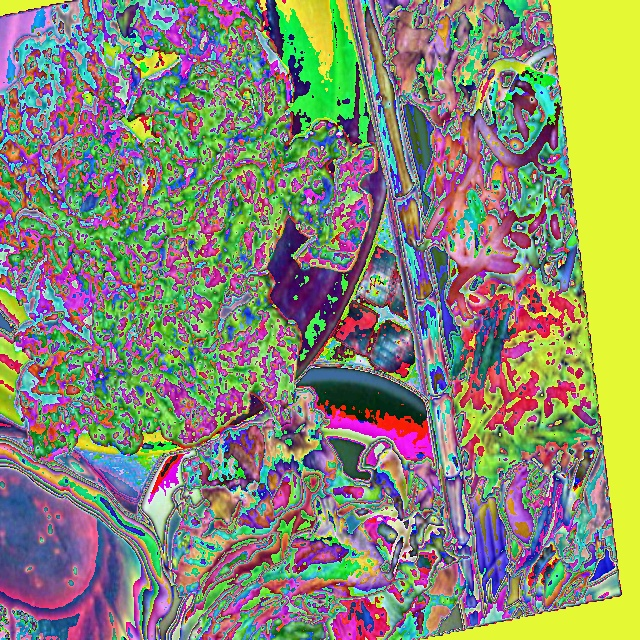background: (0, 0, 473, 640), (242, 0, 616, 615), (0, 155, 110, 619)
